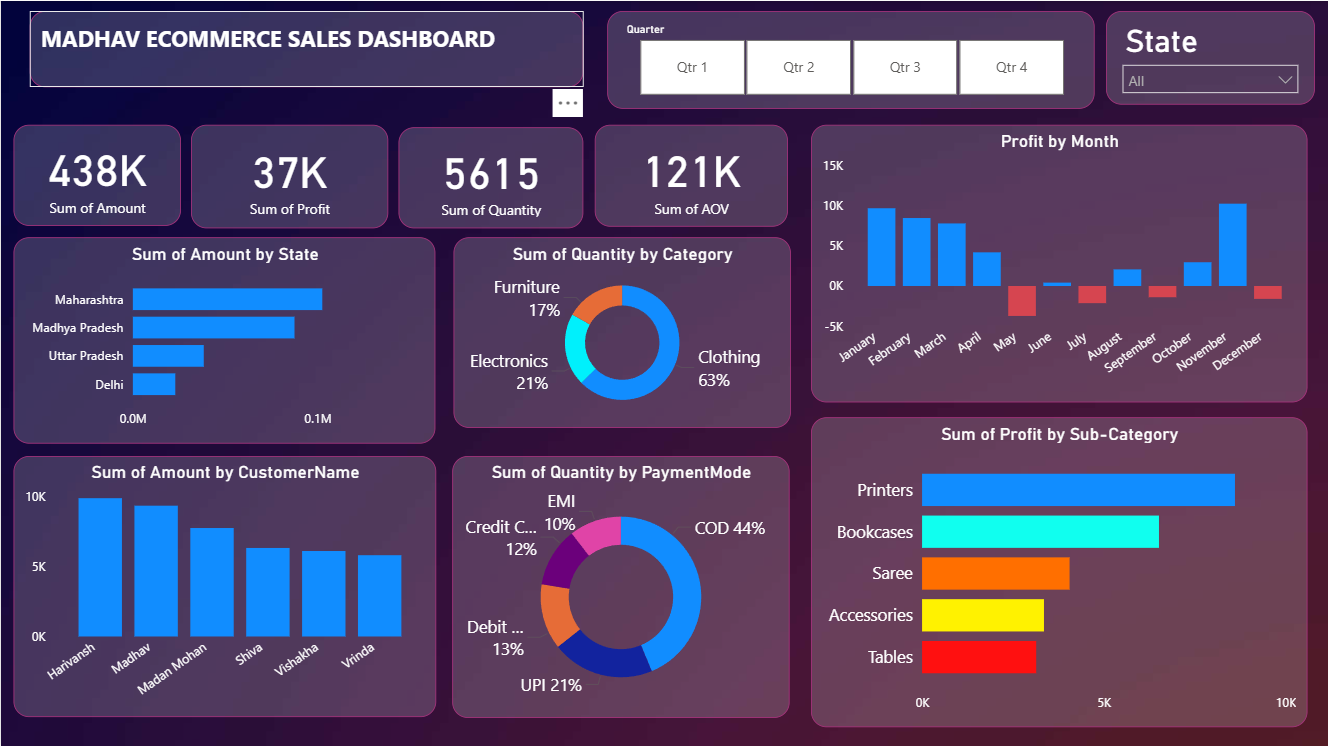

This screenshot's page, from the dashboard's own definition file:
{"tool":"powerbi","page":{"name":"Page 1","canvas":[1280,720],"ordinal":0},"visuals":[{"type":"textbox","box":[27.8,9.8,534.7,73.6],"z":0},{"type":"columnChart","title":"Profit by Month","fields":{"Y":["Sum(Details.Profit)"],"Category":["Orders.Order Date.Variation.Date Hierarchy.Month"]},"box":[781.6,119.4,479.1,268.2],"z":1000},{"type":"barChart","fields":{"Category":["Details.Sub-Category"],"Y":["Sum(Details.Profit)"]},"box":[782.2,402.1,478.9,299.1],"z":2000},{"type":"donutChart","fields":{"Y":["Sum(Details.Quantity)"],"Category":["Details.PaymentMode"]},"box":[435,439.1,325.2,252.5],"z":3000},{"type":"donutChart","fields":{"Category":["Details.Category"],"Y":["Sum(Details.Quantity)"]},"box":[436.4,227.8,325.2,183.9],"z":4000},{"type":"card","fields":{"Values":["Sum(Details.Amount)"]},"box":[12.3,119.4,161.9,97.4],"z":5000},{"type":"card","fields":{"Values":["Sum(Details.AOV)"]},"box":[573.6,119.4,186.6,98.8],"z":6000},{"type":"card","fields":{"Values":["Sum(Details.Profit)"]},"box":[183.9,119.4,190.7,100.2],"z":7000},{"type":"card","fields":{"Values":["Sum(Details.Quantity)"]},"box":[384.2,122.1,178.4,97.4],"z":8000},{"type":"barChart","fields":{"Category":["Orders.State"],"Y":["Sum(Details.Amount)"]},"box":[12.3,227.8,407.5,199],"z":9000},{"type":"columnChart","fields":{"Category":["Orders.CustomerName"],"Y":["Sum(Details.Amount)"]},"box":[12,439,408,252],"z":10000},{"type":"slicer","fields":{"Values":["Orders.Order Date.Variation.Date Hierarchy.Quarter"]},"box":[585.1,9.7,470.5,94.1],"z":10001},{"type":"slicer","fields":{"Values":["Orders.State"]},"box":[1066.5,9.7,201.5,90.5],"z":10002}]}

Visuals, with their boxes in screenshot pixels (x1, y1, x2, y2), scaled from the page's 1280x720 canvas onto the 1328x746 screenshot:
textbox: {"x1": 29, "y1": 10, "x2": 584, "y2": 86}
"Profit by Month" columnChart: {"x1": 811, "y1": 124, "x2": 1308, "y2": 402}
barChart - Details.Sub-Category x Sum(Details.Profit): {"x1": 812, "y1": 417, "x2": 1308, "y2": 727}
donutChart - Sum(Details.Quantity) x Details.PaymentMode: {"x1": 451, "y1": 455, "x2": 789, "y2": 717}
donutChart - Details.Category x Sum(Details.Quantity): {"x1": 453, "y1": 236, "x2": 790, "y2": 427}
card - Sum(Details.Amount): {"x1": 13, "y1": 124, "x2": 181, "y2": 225}
card - Sum(Details.AOV): {"x1": 595, "y1": 124, "x2": 789, "y2": 226}
card - Sum(Details.Profit): {"x1": 191, "y1": 124, "x2": 389, "y2": 228}
card - Sum(Details.Quantity): {"x1": 399, "y1": 127, "x2": 584, "y2": 227}
barChart - Orders.State x Sum(Details.Amount): {"x1": 13, "y1": 236, "x2": 436, "y2": 442}
columnChart - Orders.CustomerName x Sum(Details.Amount): {"x1": 12, "y1": 455, "x2": 436, "y2": 716}
slicer - Orders.Order Date.Variation.Date Hierarchy.Quarter: {"x1": 607, "y1": 10, "x2": 1095, "y2": 108}
slicer - Orders.State: {"x1": 1106, "y1": 10, "x2": 1316, "y2": 104}
